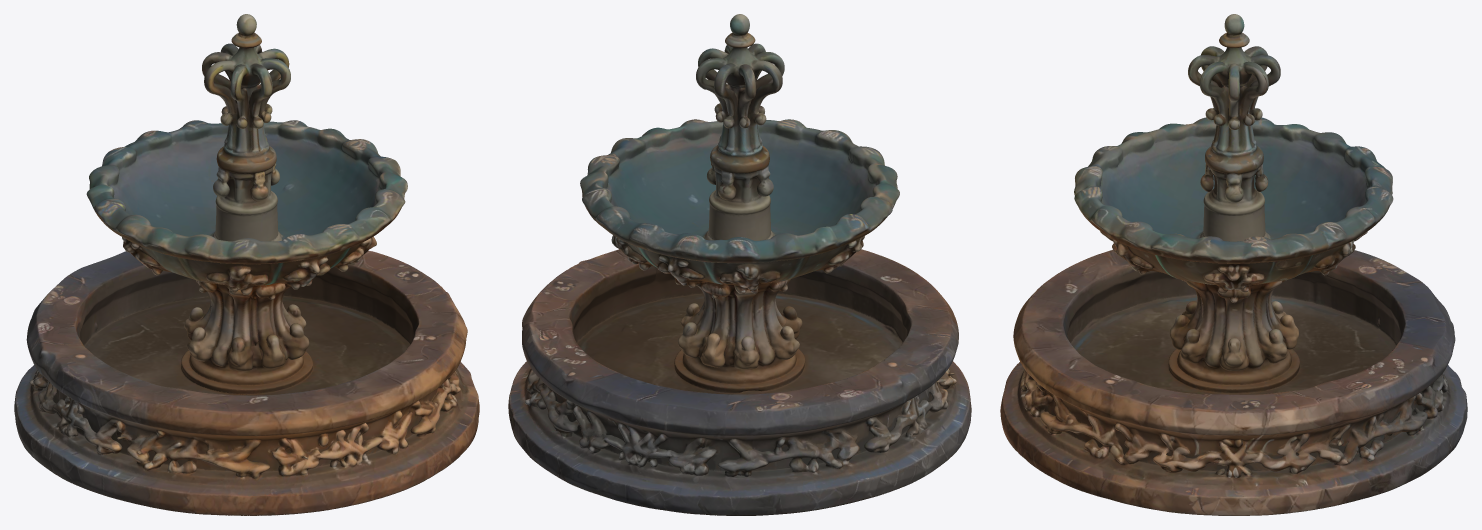
File: نافورة_الساحة.glb
The picture shows the model from 3 angles, left to right: view 1: azimuth 30°, elevation 25°; view 2: azimuth 150°, elevation 25°; view 3: azimuth 270°, elevation 25°; orthographic projection.
Visible parts, largest first — view 1: tripo_node_5b8d6ba8-a5a3-40c9-9139-de0533ee8625; view 2: tripo_node_5b8d6ba8-a5a3-40c9-9139-de0533ee8625; view 3: tripo_node_5b8d6ba8-a5a3-40c9-9139-de0533ee8625.
Boxes of the visible parts, x1,y1,x2,y2 form: tripo_node_5b8d6ba8-a5a3-40c9-9139-de0533ee8625: (14,14,479,515); tripo_node_5b8d6ba8-a5a3-40c9-9139-de0533ee8625: (508,14,971,515); tripo_node_5b8d6ba8-a5a3-40c9-9139-de0533ee8625: (1000,14,1467,515).
Size of the model in its own units: 0.9479 by 1 by 0.9513.
Materials: 1 (1 with a texture image).
